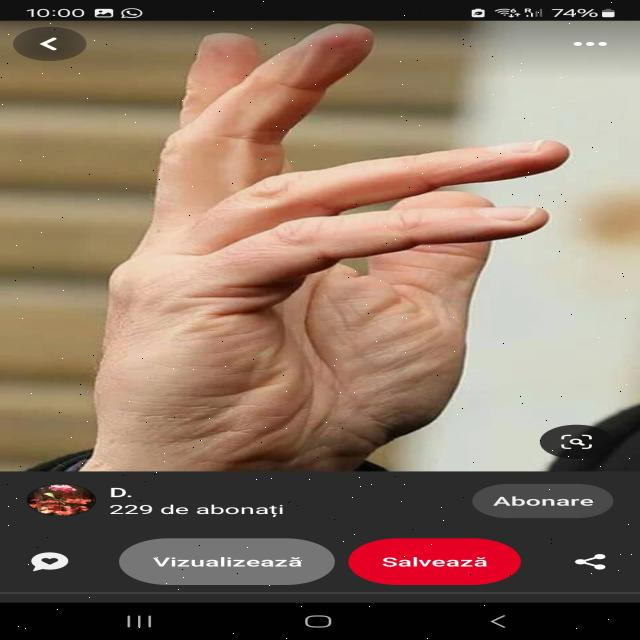hands: (61, 18, 584, 472)
